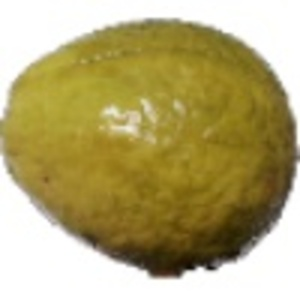goiaba: (2, 13, 296, 282)
